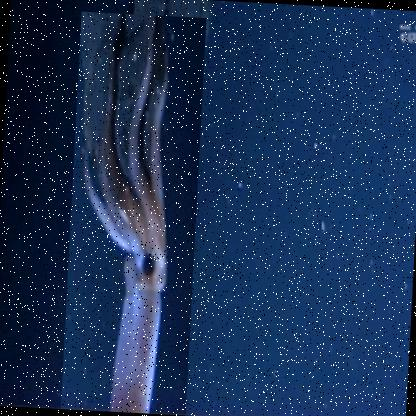colossal_squid: (60, 10, 208, 414)
